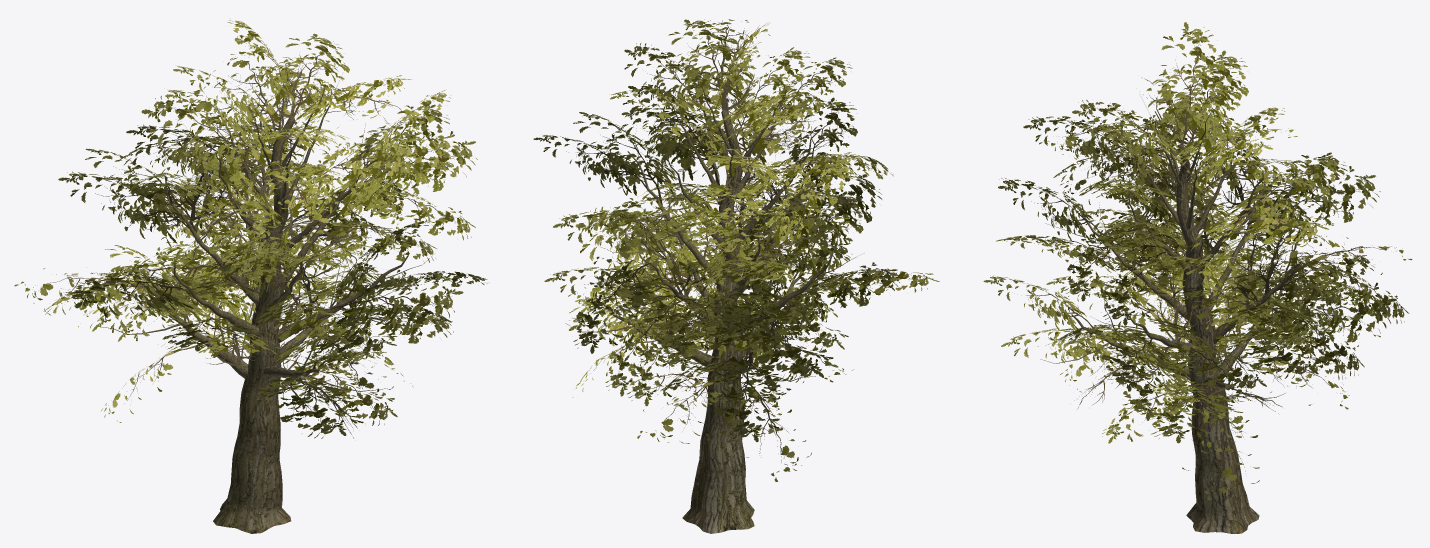
The model's file is oakTree1.gltf.
3 views of the same model, side by side, from view 1: azimuth 30°, elevation 25°; view 2: azimuth 150°, elevation 25°; view 3: azimuth 270°, elevation 25° (orthographic). The views are drawn at different scales.
Visible parts, largest first — view 1: leafplanes_197_leaf1_0, 0_treelarge_bark1_0; view 2: leafplanes_197_leaf1_0, 0_treelarge_bark1_0; view 3: leafplanes_197_leaf1_0, 0_treelarge_bark1_0.
Part boxes in pixels (x1=…): leafplanes_197_leaf1_0: x1=14, y1=20, x2=487, y2=438; 0_treelarge_bark1_0: x1=99, y1=64, x2=432, y2=533; leafplanes_197_leaf1_0: x1=533, y1=19, x2=939, y2=481; 0_treelarge_bark1_0: x1=565, y1=60, x2=856, y2=533; leafplanes_197_leaf1_0: x1=983, y1=22, x2=1412, y2=500; 0_treelarge_bark1_0: x1=1040, y1=94, x2=1320, y2=533.
Bounding box in the file's own units: 1.69 × 2.04 × 1.67.
Materials: 2 (2 with a texture image).
